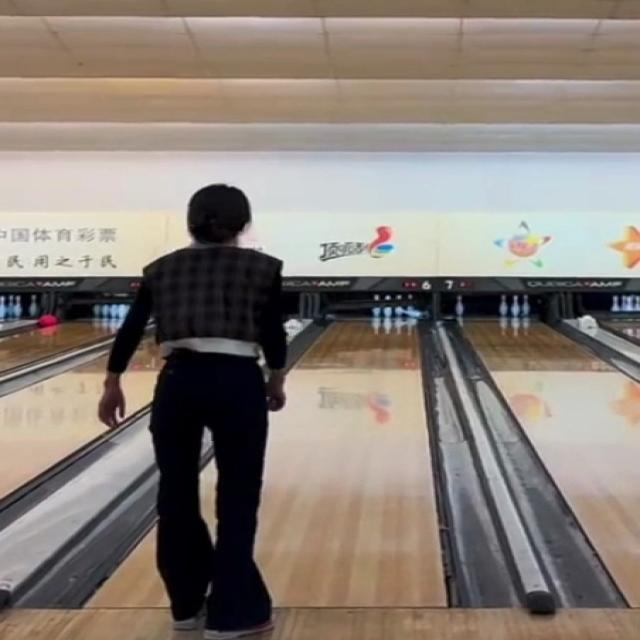alley: (256, 318, 445, 608), (88, 533, 166, 608)
bottle: (374, 295, 419, 317)
